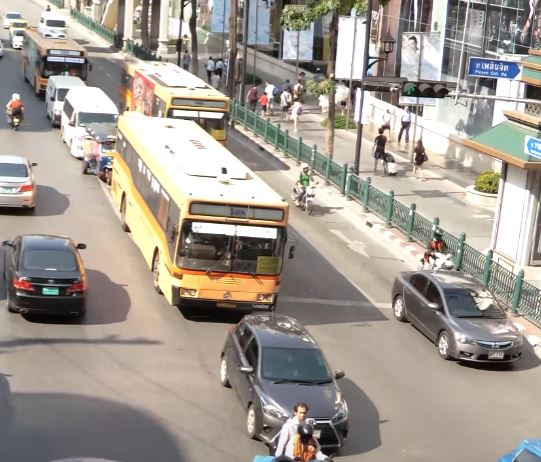Bus: (109, 113, 292, 322), (119, 59, 231, 158), (23, 27, 93, 93), (61, 85, 119, 160), (44, 75, 83, 125)
Car: (219, 311, 352, 449), (391, 267, 526, 368), (1, 231, 88, 317), (1, 154, 38, 208)
Motorcycle: (273, 399, 333, 462), (419, 227, 459, 270), (292, 163, 317, 216), (6, 89, 26, 131)
TukTuk: (83, 120, 116, 182)
